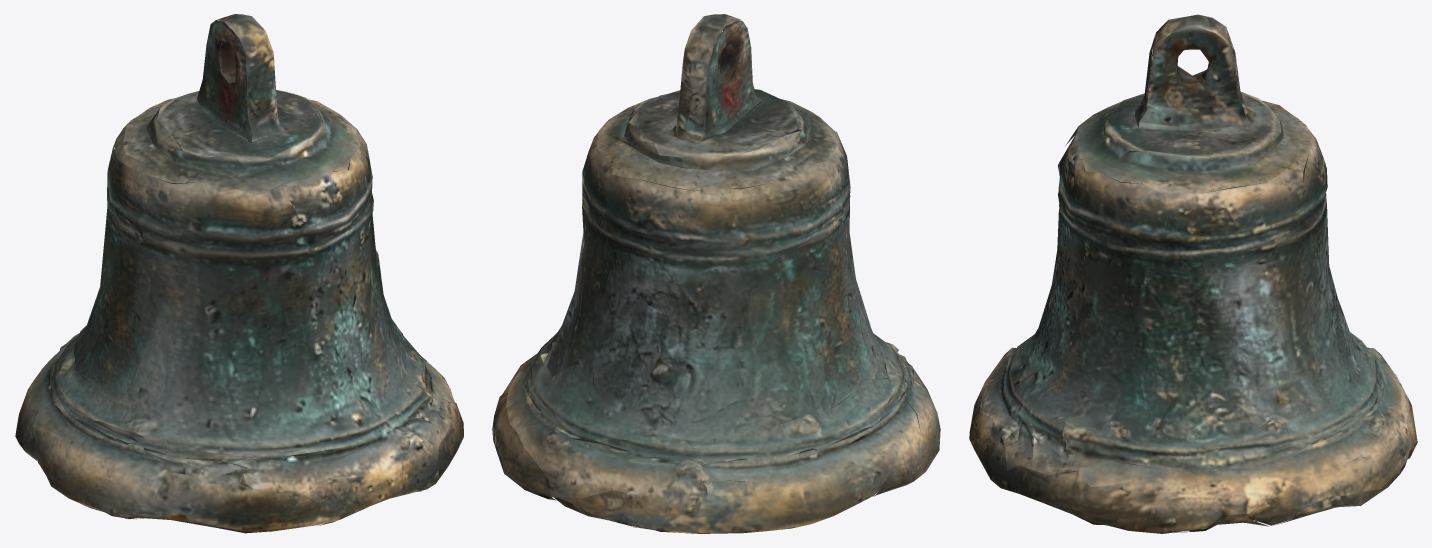
File: bell.glb
The picture shows the model from 3 angles, left to right: view 1: azimuth 30°, elevation 25°; view 2: azimuth 150°, elevation 25°; view 3: azimuth 270°, elevation 25°; orthographic projection.
Visible parts, largest first — view 1: Lux3D bell; view 2: Lux3D bell; view 3: Lux3D bell.
Part boxes in pixels (box(x1,y1,x2,y2)): Lux3D bell: box(15, 14, 463, 533); Lux3D bell: box(492, 14, 940, 533); Lux3D bell: box(969, 14, 1417, 533).
Bounding box in the file's own units: 0.7959 × 1 × 0.7978.
1 material, 1 textured.
